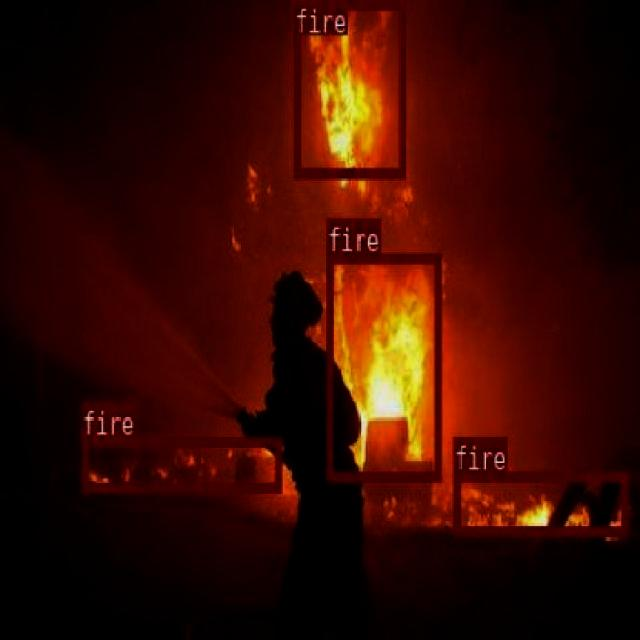fire: (326, 252, 439, 478), (292, 1, 406, 174), (452, 470, 626, 535), (80, 436, 280, 492)
